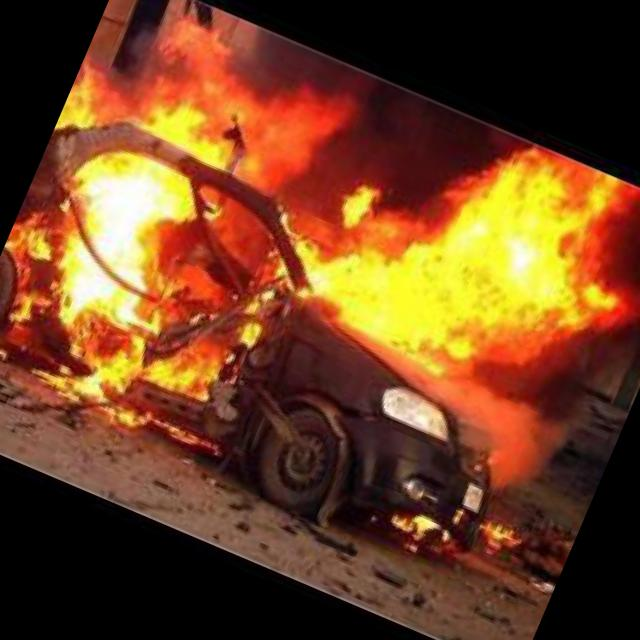fire: (0, 0, 632, 581)
